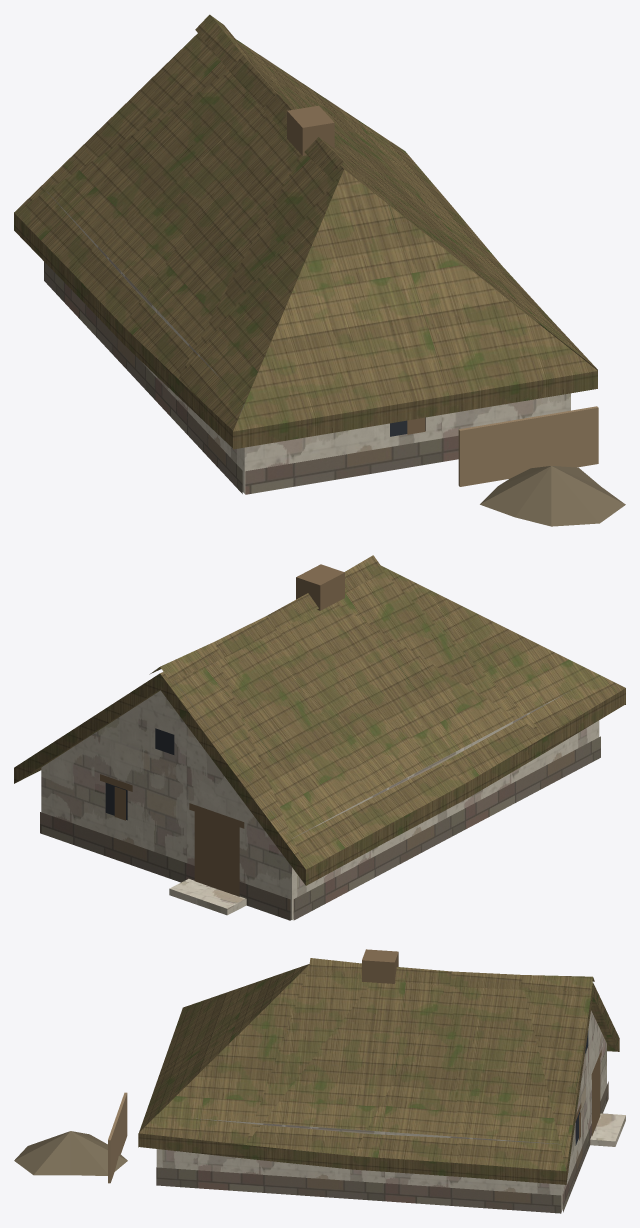
3 views of the same model, one above another, from view 1: azimuth 30°, elevation 25°; view 2: azimuth 150°, elevation 25°; view 3: azimuth 270°, elevation 25° (orthographic). The views are drawn at different scales.
Visible parts, largest first — view 1: b001082_thatch, b001082_base, b001082_wall, b001082_wood, b001082_dung, b001082_oak; view 2: b001082_thatch, b001082_wall, b001082_base, b001082_oak, b001082_glass; view 3: b001082_thatch, b001082_wall, b001082_base, b001082_dung, b001082_oak, b001082_wood.
Part boxes in pixels (<box>): b001082_thatch: <box>14,14,597,449</box>; b001082_base: <box>44,262,458,494</box>; b001082_wall: <box>46,191,570,493</box>; b001082_wood: <box>458,406,598,486</box>; b001082_dung: <box>480,466,625,526</box>; b001082_oak: <box>287,105,425,434</box>; b001082_thatch: <box>14,555,625,885</box>; b001082_wall: <box>41,681,599,919</box>; b001082_base: <box>40,736,600,920</box>; b001082_oak: <box>100,564,344,896</box>; b001082_glass: <box>105,728,174,820</box>; b001082_thatch: <box>138,958,619,1184</box>; b001082_wall: <box>156,1010,625,1212</box>; b001082_base: <box>156,1081,608,1213</box>; b001082_dung: <box>14,1131,127,1175</box>; b001082_oak: <box>362,949,601,1140</box>; b001082_wood: <box>108,1092,127,1183</box>.
Size of the model in its own units: 7.87 by 4.33 by 12.89.
Materials: 7 (3 with a texture image).
